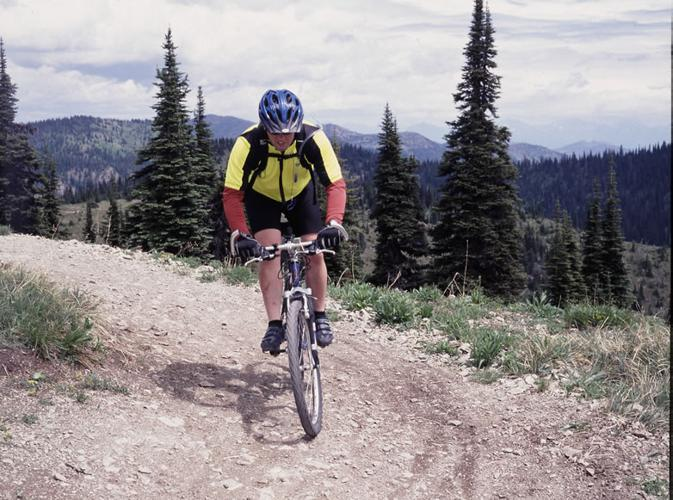person: (221, 89, 348, 354)
